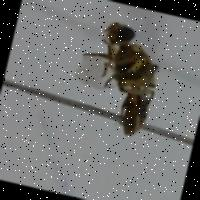Oriental-fruit-fly: (53, 0, 185, 166)
